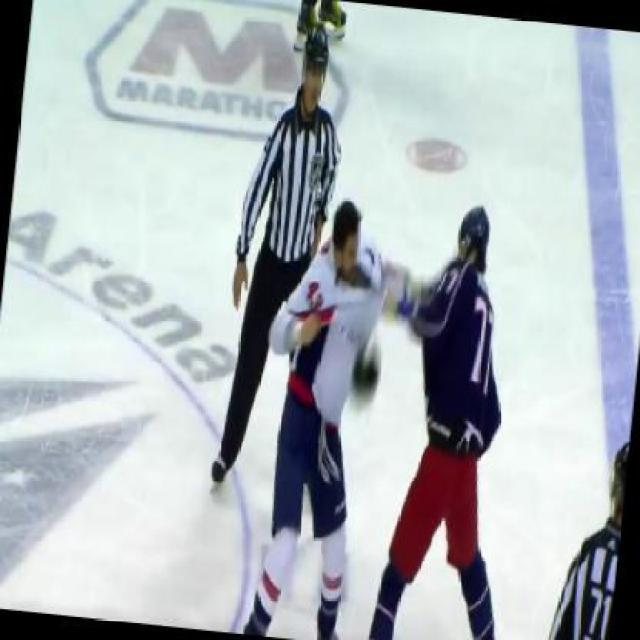fight: (240, 180, 543, 638)
